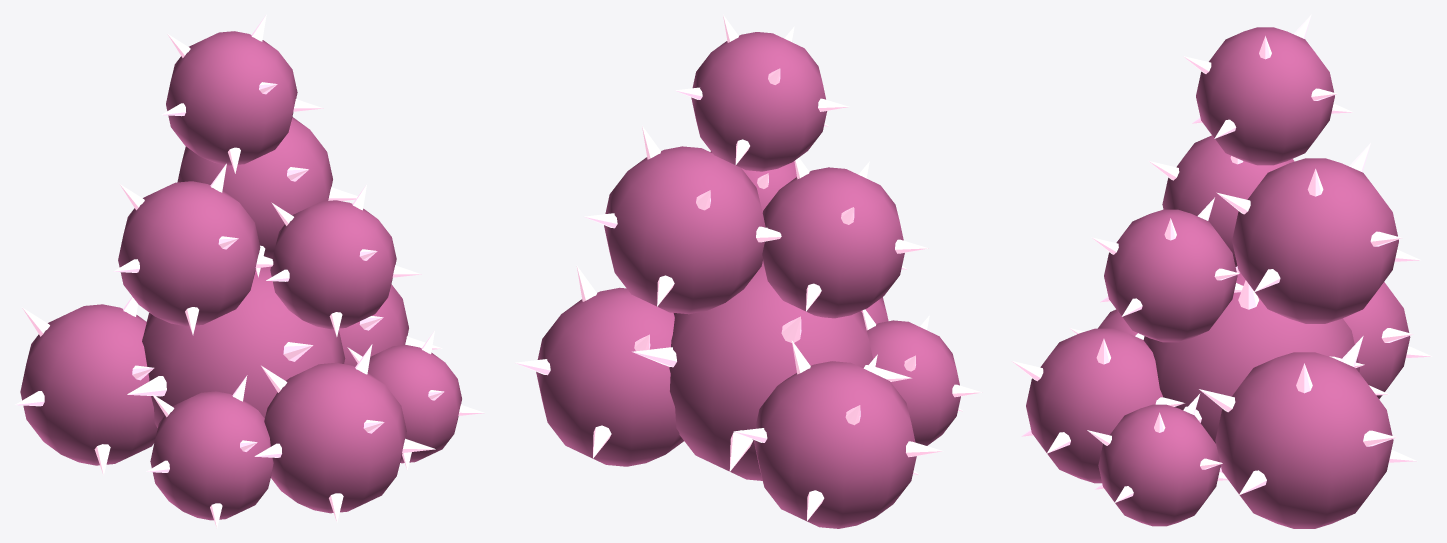
The model's file is relleno_esporas.glb.
3 renders of one model, left to right at view 1: azimuth 30°, elevation 25°; view 2: azimuth 150°, elevation 25°; view 3: azimuth 270°, elevation 25°, orthographic. The views are drawn at different scales.
Parts seen in each view (by area): view 1: relleno_esporas; view 2: relleno_esporas; view 3: relleno_esporas.
Part boxes in pixels (x1,y1,x2,y2): relleno_esporas: (15,14,484,528); relleno_esporas: (514,14,982,528); relleno_esporas: (1012,14,1432,528).
Bounding box in the file's own units: 0.8482 × 0.8953 × 0.7574.
